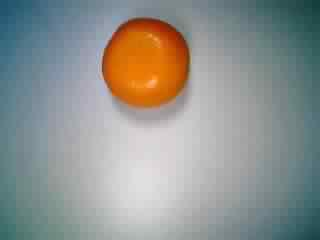orange: (98, 14, 194, 110)
